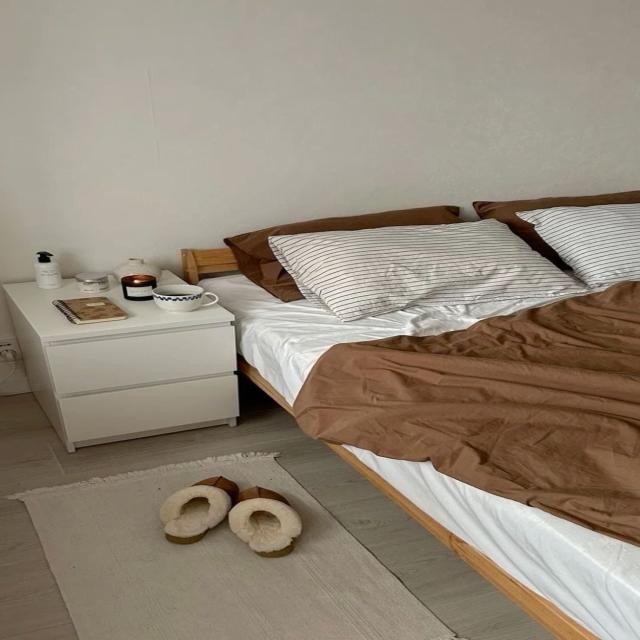obstacle: (178, 216, 639, 640), (1, 270, 240, 452)
